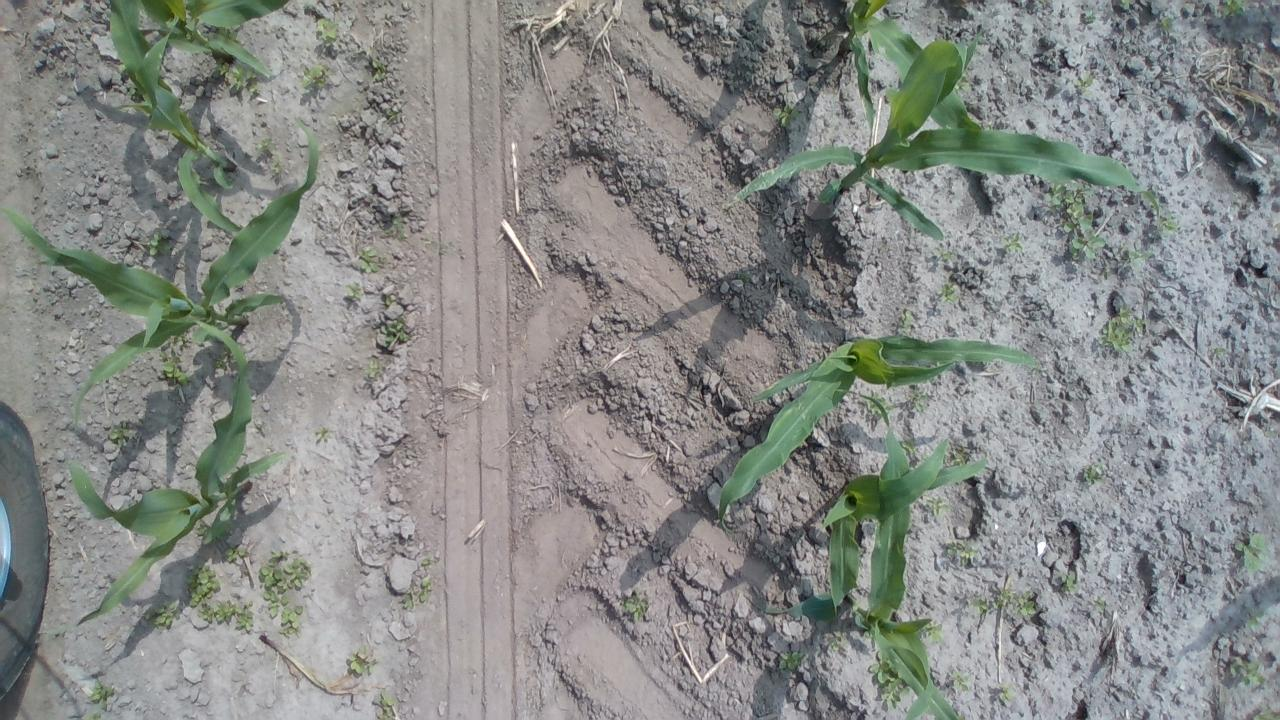Maize: (1, 120, 328, 412), (693, 46, 1161, 238), (707, 332, 1049, 518), (64, 356, 291, 630), (101, 11, 281, 255), (818, 428, 1006, 629), (810, 3, 1004, 180), (792, 575, 984, 720), (115, 7, 288, 94)
Weeds: (1045, 181, 1100, 263), (253, 552, 318, 608), (866, 652, 911, 710), (194, 601, 258, 640), (965, 585, 1040, 618), (400, 554, 434, 615), (216, 57, 266, 96), (184, 562, 225, 608), (1104, 308, 1142, 350), (260, 137, 292, 181), (1148, 202, 1184, 241), (613, 594, 659, 623), (351, 243, 388, 279), (156, 356, 194, 391), (858, 388, 894, 424), (277, 608, 311, 646), (1226, 658, 1266, 690), (1236, 533, 1266, 575), (382, 312, 416, 348), (88, 678, 118, 713), (346, 645, 378, 677), (373, 687, 402, 720), (138, 230, 172, 258), (145, 603, 180, 630), (112, 418, 142, 449), (944, 537, 980, 561), (312, 17, 338, 50), (906, 384, 932, 417), (192, 516, 222, 544), (300, 63, 330, 91), (948, 669, 978, 697), (222, 544, 252, 571), (209, 347, 239, 373), (773, 102, 803, 128), (312, 419, 338, 448), (341, 280, 367, 309), (777, 647, 807, 672), (1244, 602, 1266, 634), (1080, 462, 1106, 488), (362, 353, 387, 380), (1248, 699, 1280, 720), (990, 681, 1019, 704), (921, 620, 946, 646), (368, 56, 393, 80), (384, 102, 408, 127), (822, 627, 848, 650), (895, 306, 917, 333), (1216, 0, 1245, 19), (1076, 73, 1099, 96), (951, 443, 974, 466), (378, 286, 400, 310), (1126, 245, 1148, 269), (930, 244, 955, 264), (1064, 566, 1079, 599), (926, 496, 948, 518), (900, 439, 921, 461), (1004, 234, 1026, 254), (940, 285, 960, 304), (1087, 594, 1105, 614), (1158, 15, 1176, 33), (389, 214, 404, 234), (954, 75, 971, 92), (1211, 345, 1229, 361), (1118, 0, 1134, 10)
